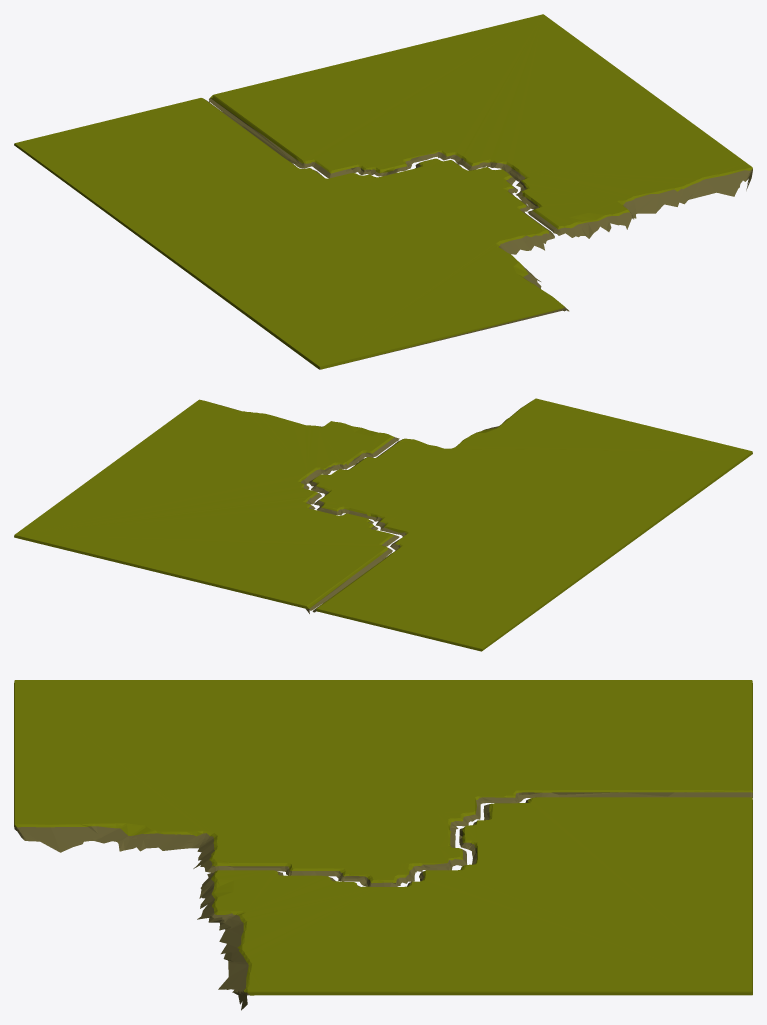
File: Floor.fbx
The picture shows the model from 3 angles, top to bottom: view 1: azimuth 30°, elevation 25°; view 2: azimuth 150°, elevation 25°; view 3: azimuth 270°, elevation 25°; orthographic projection. The views are drawn at different scales.
Parts seen in each view (by area): view 1: Terrain.004; view 2: Terrain.004; view 3: Terrain.004.
Boxes of the visible parts, bbox=[...] form: Terrain.004: bbox=[14, 14, 752, 369]; Terrain.004: bbox=[14, 398, 752, 651]; Terrain.004: bbox=[14, 680, 752, 1010].
Size of the model in its own units: 11943 by 445 by 11943.
